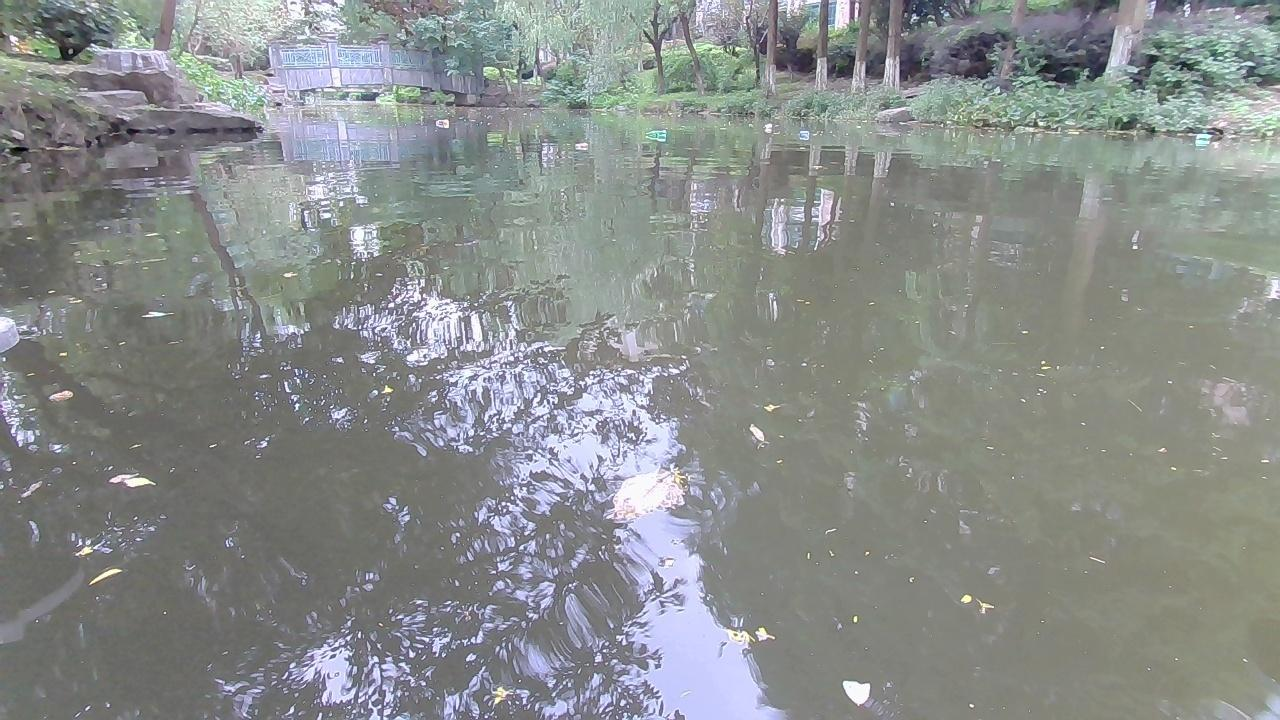bottle: (642, 126, 667, 138), (1190, 132, 1212, 143), (571, 140, 589, 150), (431, 117, 448, 127), (761, 122, 774, 131), (799, 129, 810, 137)
